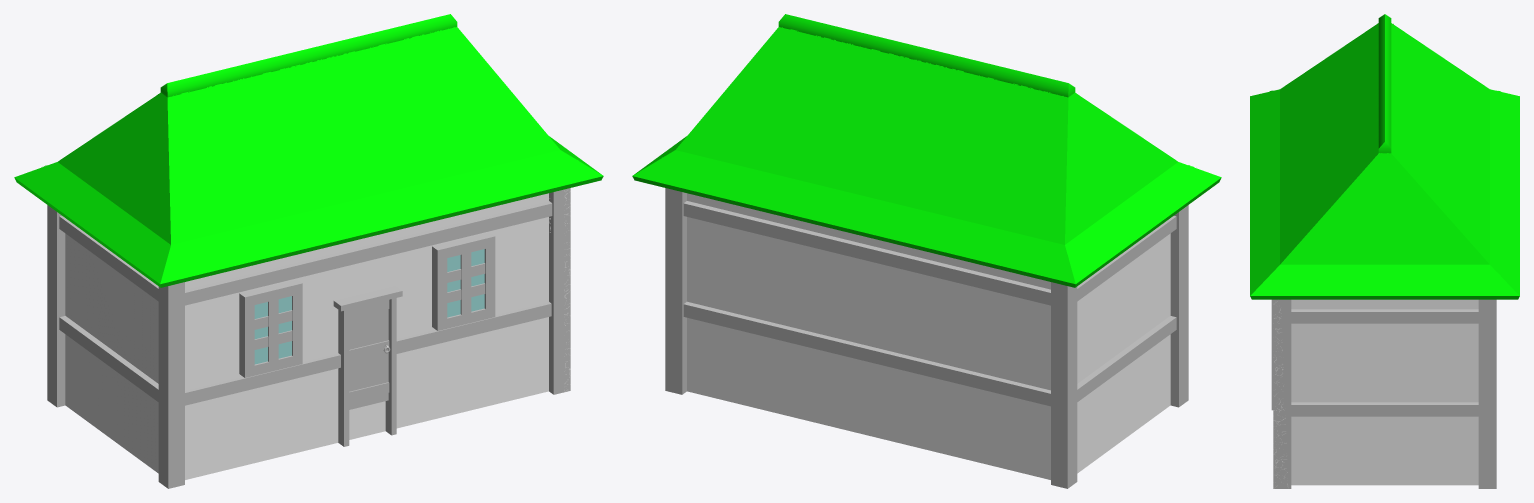
The model's file is House_1f_2.fbx.
3 views of the same model, side by side, from view 1: azimuth 30°, elevation 25°; view 2: azimuth 150°, elevation 25°; view 3: azimuth 270°, elevation 25° (orthographic). The views are drawn at different scales.
Parts seen in each view (by area): view 1: House_1f_2; view 2: House_1f_2; view 3: House_1f_2.
Part boxes in pixels (x1=…): House_1f_2: x1=14, y1=14, x2=603, y2=488; House_1f_2: x1=632, y1=14, x2=1221, y2=488; House_1f_2: x1=1250, y1=14, x2=1519, y2=488.
Size of what is drawn, in the model's own units: 921 by 688 by 525.
